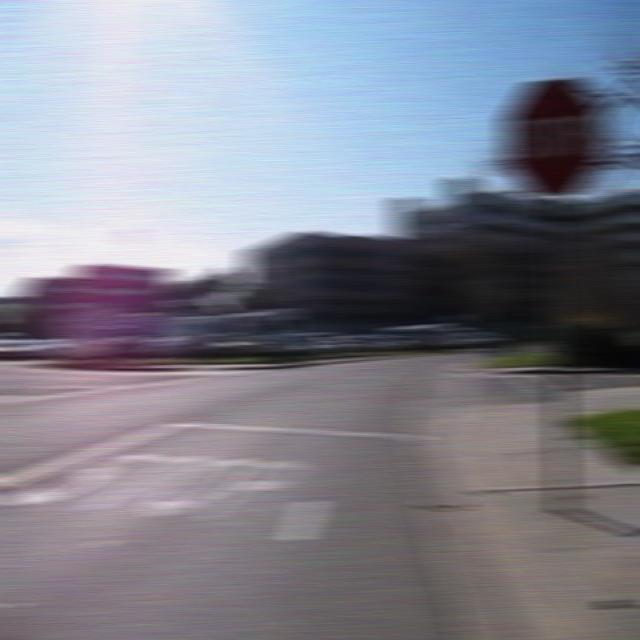stop: (500, 76, 608, 196)
